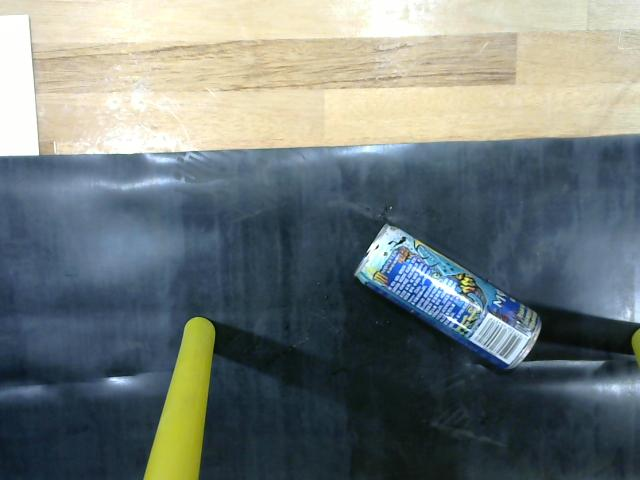can: (349, 212, 559, 367)
